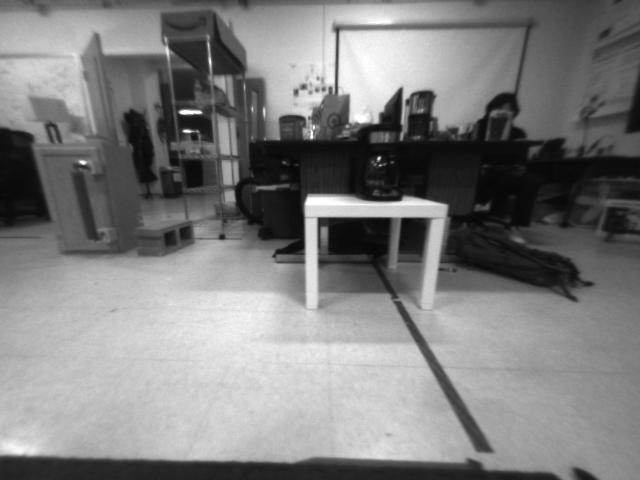coffee_pot: (349, 123, 408, 207)
